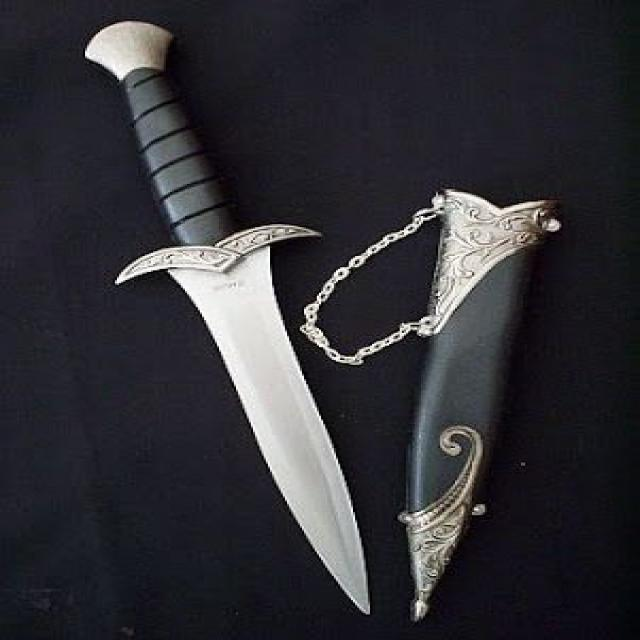short sword: (68, 11, 382, 620)
